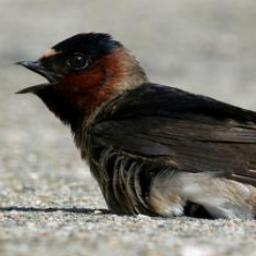Swallow: (10, 31, 256, 222)
